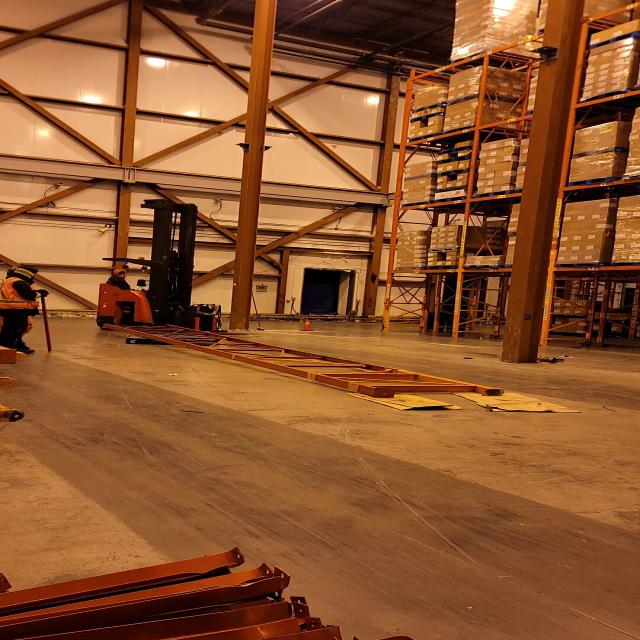forklift: (96, 202, 221, 334)
human: (3, 259, 52, 359), (94, 267, 141, 294)
objectofinterest: (100, 317, 508, 402), (446, 385, 587, 414), (341, 384, 465, 413), (118, 334, 173, 350)
